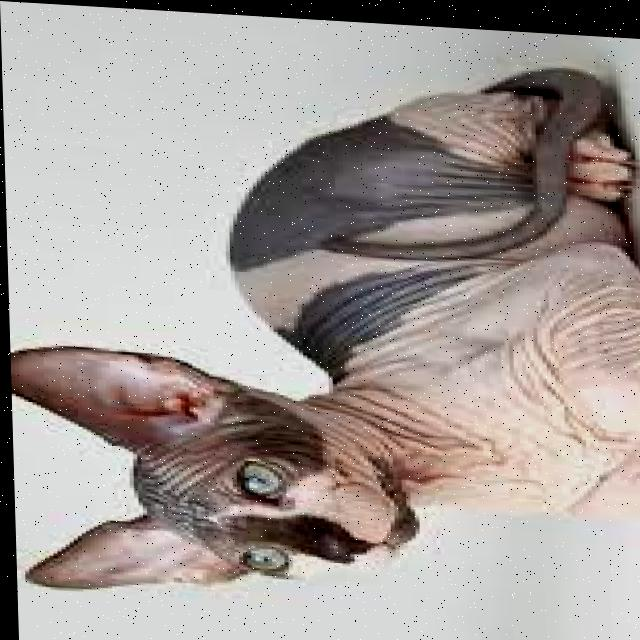Sphynx: (1, 29, 640, 619)
